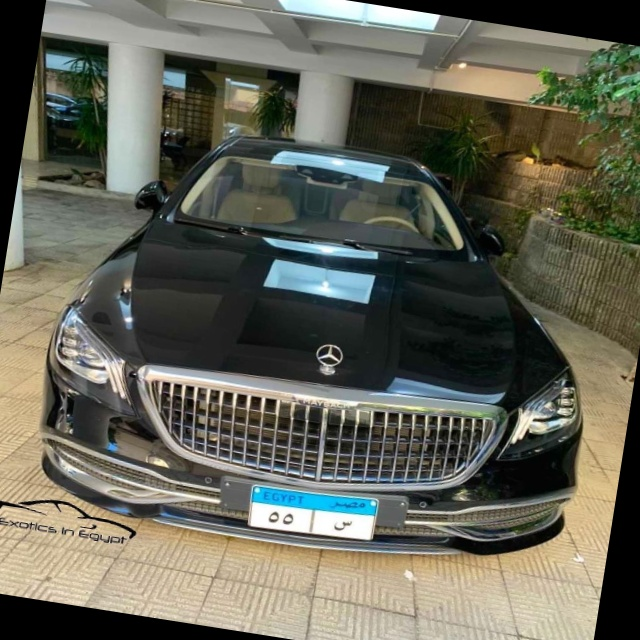License Plate: (244, 479, 383, 548)
